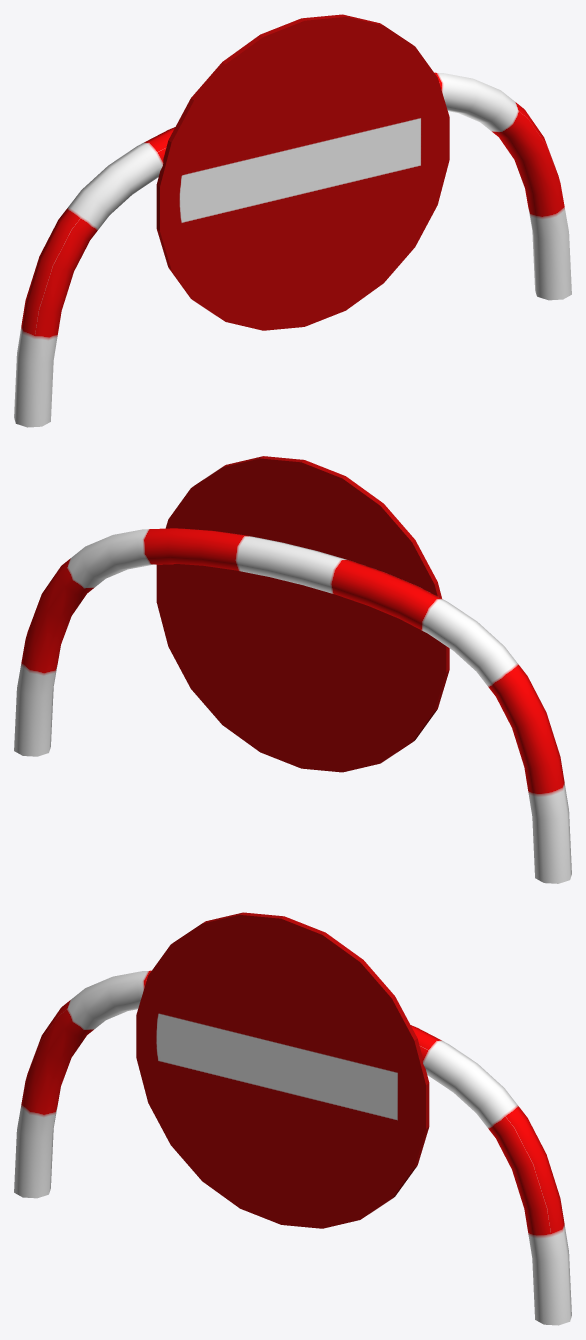
File: stop.fbx
The picture shows the model from 3 angles, top to bottom: view 1: azimuth 30°, elevation 25°; view 2: azimuth 150°, elevation 25°; view 3: azimuth 330°, elevation 25°; orthographic projection.
Parts seen in each view (by area): view 1: Gate_ring__1_; view 2: Gate_ring__1_; view 3: Gate_ring__1_.
Part boxes in pixels (x1,y1,x2,y2): Gate_ring__1_: (14,14,571,427); Gate_ring__1_: (14,456,571,883); Gate_ring__1_: (14,912,571,1325).
Size of the model in its own units: 435 by 258 by 28.96.
2 materials, 2 textured.
